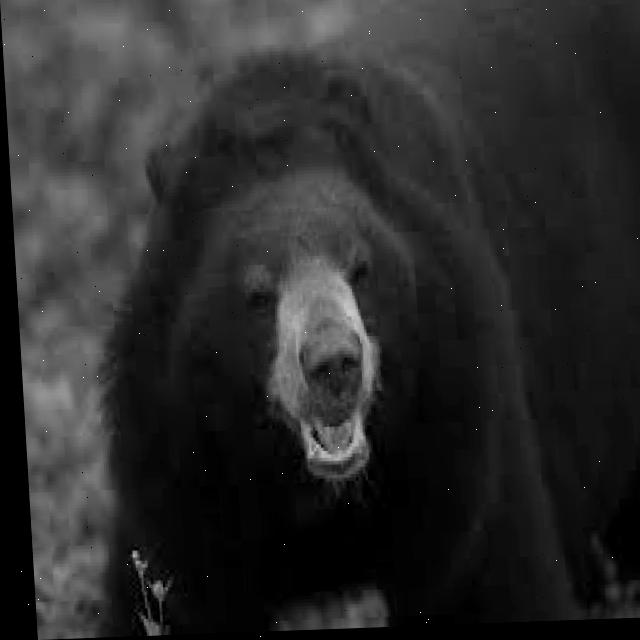Bear: (68, 0, 640, 637)
